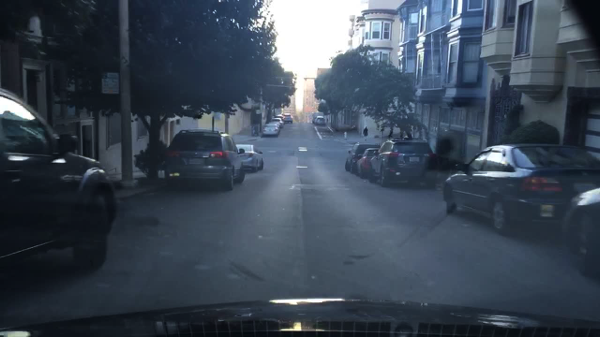car: (0, 87, 118, 275), (443, 142, 599, 239), (155, 127, 246, 192), (558, 187, 600, 279), (369, 136, 437, 191), (345, 144, 380, 175), (355, 148, 385, 180), (236, 144, 265, 171), (262, 124, 279, 136), (270, 117, 283, 128), (266, 122, 280, 131), (284, 113, 294, 124), (314, 117, 326, 125), (311, 113, 318, 122), (278, 114, 284, 119)
person: (361, 125, 368, 144)
traffic sign: (102, 73, 119, 96)
